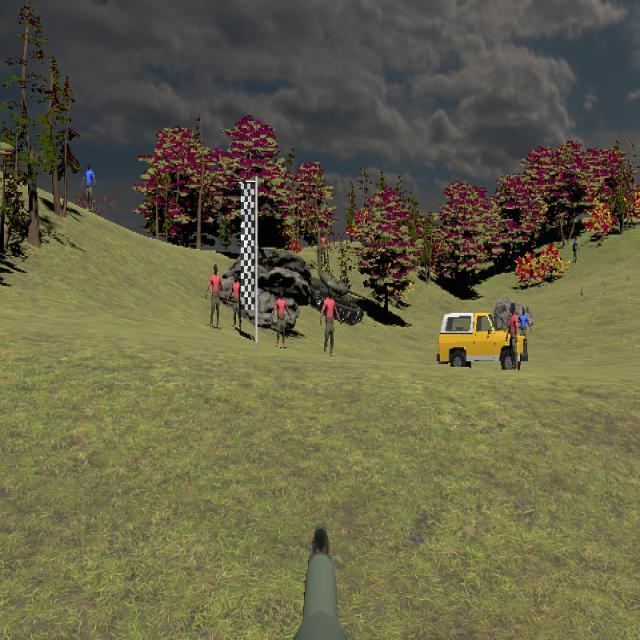Human: (320, 286, 341, 358), (205, 264, 226, 329), (271, 290, 291, 349), (228, 272, 243, 330), (81, 162, 96, 212), (82, 162, 96, 212)
Tank: (304, 272, 376, 326)
car: (437, 311, 528, 372)
